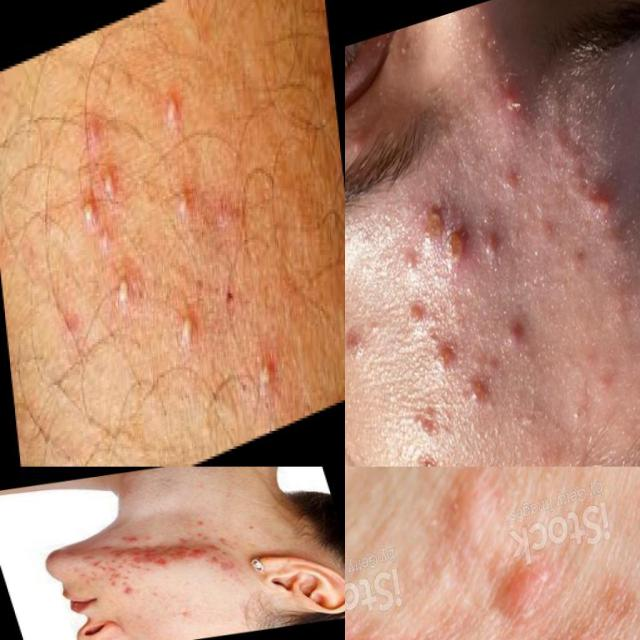acne_scars: (132, 538, 192, 571)
comedone: (489, 156, 527, 206), (400, 395, 438, 440), (359, 282, 386, 344), (564, 384, 594, 437), (345, 119, 376, 162), (589, 359, 619, 402), (566, 451, 596, 466)
cystic: (418, 182, 454, 248), (439, 216, 473, 276)
folliculitis: (167, 283, 208, 375), (154, 64, 188, 145), (108, 252, 144, 321), (247, 334, 279, 408), (170, 170, 200, 240), (95, 149, 126, 211), (72, 186, 102, 238)
papule: (76, 64, 111, 163), (84, 559, 125, 585), (185, 541, 217, 562), (112, 580, 140, 598)
pustule: (426, 333, 463, 386), (581, 177, 613, 229), (497, 304, 526, 359), (477, 203, 502, 266), (454, 378, 487, 424), (396, 294, 430, 335), (394, 243, 424, 284), (496, 79, 526, 113)
